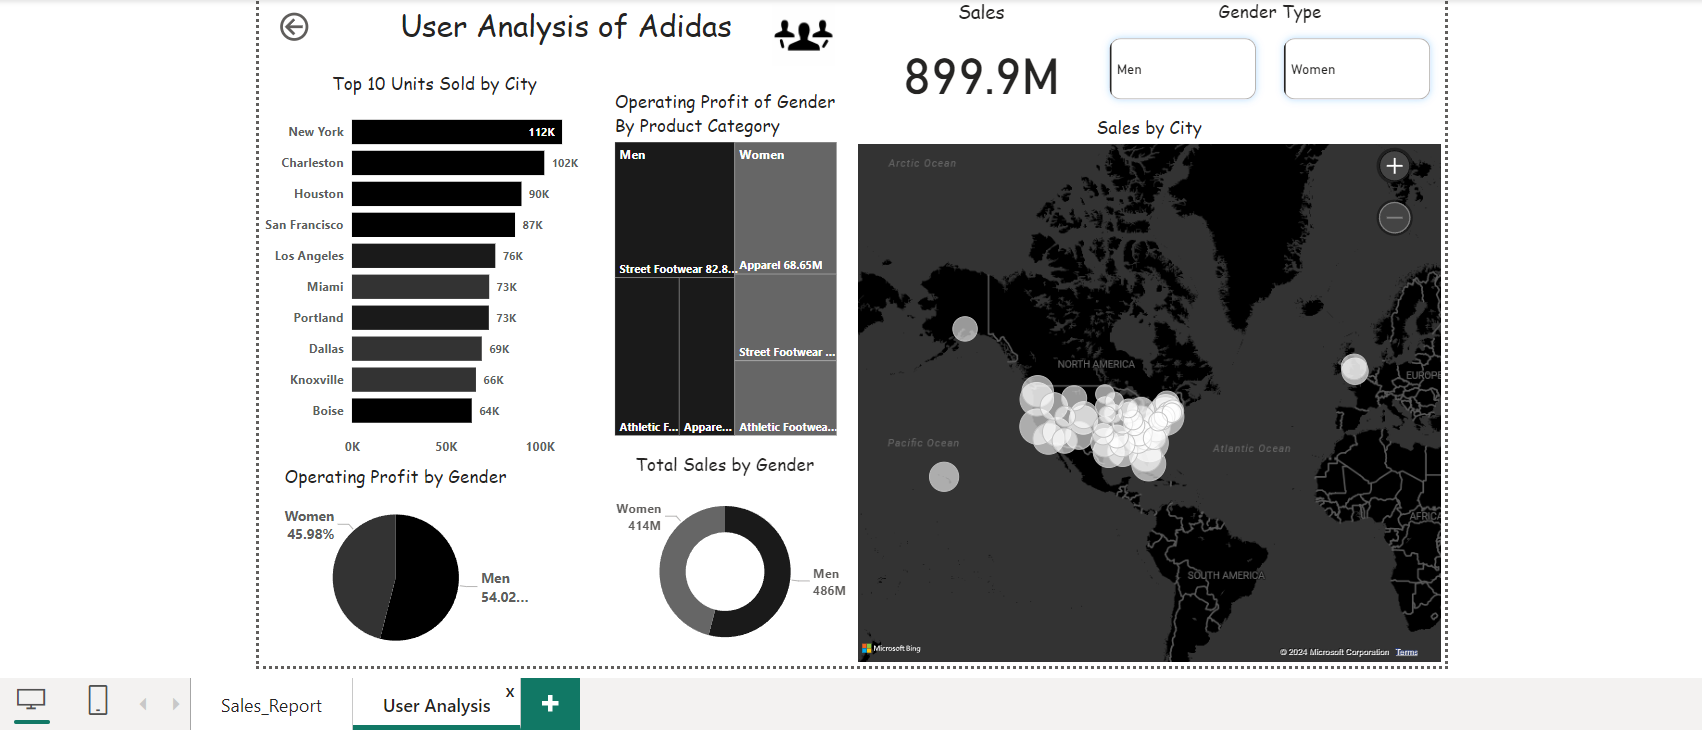

The dashboard page shown, as its layout file describes it:
{"tool":"powerbi","page":{"name":"User Analysis","canvas":[1280,720],"ordinal":1},"visuals":[{"type":"textbox","box":[147.3,0,378.9,58.3],"z":0},{"type":"image","box":[536,0,103.6,77.7],"z":1000},{"type":"map","title":"Sales by City","fields":{"Category":["User Data.City"],"Size":["Sum(User Data.Total Sales)"]},"box":[641.2,124.7,639.6,595.9],"z":2000},{"type":"advancedSlicerVisual","fields":{"Values":["User Data.Gender Type"]},"box":[901.9,0,378.9,124.7],"z":3000},{"type":"clusteredBarChart","title":"Top 10 Units Sold by City","fields":{"Y":["Sum(User Data.Units Sold)"],"Category":["User Data.City"]},"box":[0,77.7,378.9,424.2],"z":4000},{"type":"pieChart","title":"Operating Profit by Gender ","fields":{"Category":["User Data.Gender Type"],"Y":["Sum(User Data.Operating Profit)"]},"box":[0,502,294.7,218.6],"z":5000},{"type":"donutChart","title":"Total Sales by Gender","fields":{"Category":["User Data.Gender Type"],"Y":["Sum(User Data.Total Sales)"]},"box":[364.3,489,276.9,231.5],"z":6000},{"type":"card","title":"Sales","fields":{"Values":["Sum(User Data.Total Sales)"]},"box":[668.7,0,221.8,124.7],"z":7000},{"type":"treemap","title":"Operating Profit of Gender By Product Category","fields":{"Values":["Sum(User Data.Operating Profit)"],"Group":["User Data.Gender Type"],"Details":["User Data.Product Category"]},"box":[378.9,97.2,249.4,378.9],"z":8000},{"type":"actionButton","box":[17.8,9.7,100.4,40.5],"z":9000}]}

Visuals, with their boxes on the page's 1280x720 design canvas (x1, y1, x2, y2). These are canvas units, not pixel positions in the 1702x730 screenshot, which may show the page scaled, cropped or inside an application window:
textbox: pyautogui.locateOnScreen(147, 0, 526, 58)
image: pyautogui.locateOnScreen(536, 0, 640, 78)
"Sales by City" map: pyautogui.locateOnScreen(641, 125, 1281, 721)
advancedSlicerVisual - User Data.Gender Type: pyautogui.locateOnScreen(902, 0, 1281, 125)
"Top 10 Units Sold by City" clusteredBarChart: pyautogui.locateOnScreen(0, 78, 379, 502)
"Operating Profit by Gender " pieChart: pyautogui.locateOnScreen(0, 502, 295, 721)
"Total Sales by Gender" donutChart: pyautogui.locateOnScreen(364, 489, 641, 720)
"Sales" card: pyautogui.locateOnScreen(669, 0, 890, 125)
"Operating Profit of Gender By Product Category" treemap: pyautogui.locateOnScreen(379, 97, 628, 476)
actionButton: pyautogui.locateOnScreen(18, 10, 118, 50)
